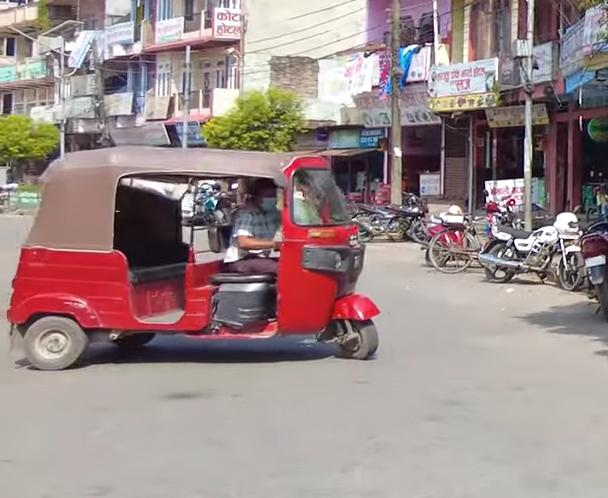auto_rickshaw: (2, 145, 386, 372)
